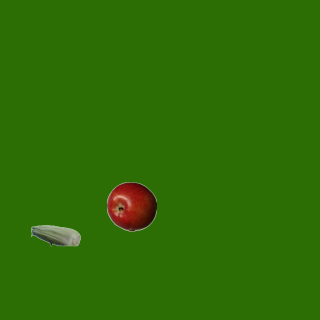Apple Braeburn: (106, 181, 156, 231)
Corn Husk: (30, 210, 80, 260)
